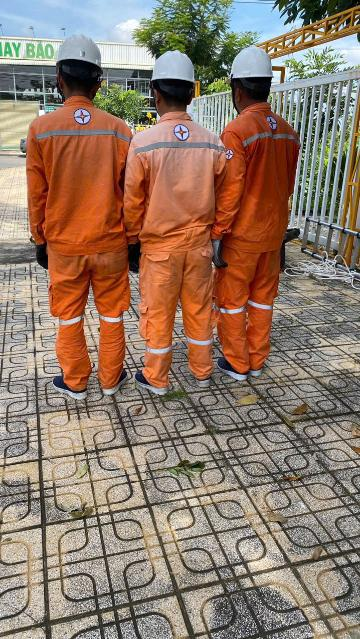gloves: (108, 222, 152, 273), (202, 222, 233, 274), (27, 228, 57, 275), (273, 214, 296, 262)
helmet: (53, 32, 104, 84), (148, 45, 198, 98), (228, 46, 277, 86)
shoes: (45, 367, 92, 407), (133, 362, 179, 400), (188, 359, 223, 398), (98, 367, 136, 402), (217, 349, 247, 387), (249, 354, 286, 384)
